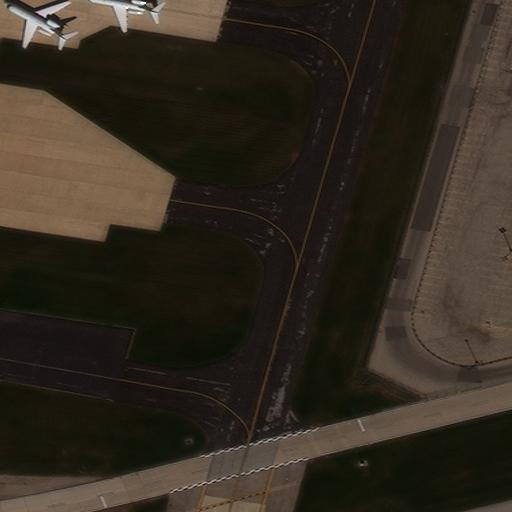Medium Civil Transport: (3, 0, 67, 48), (85, 0, 161, 33)
